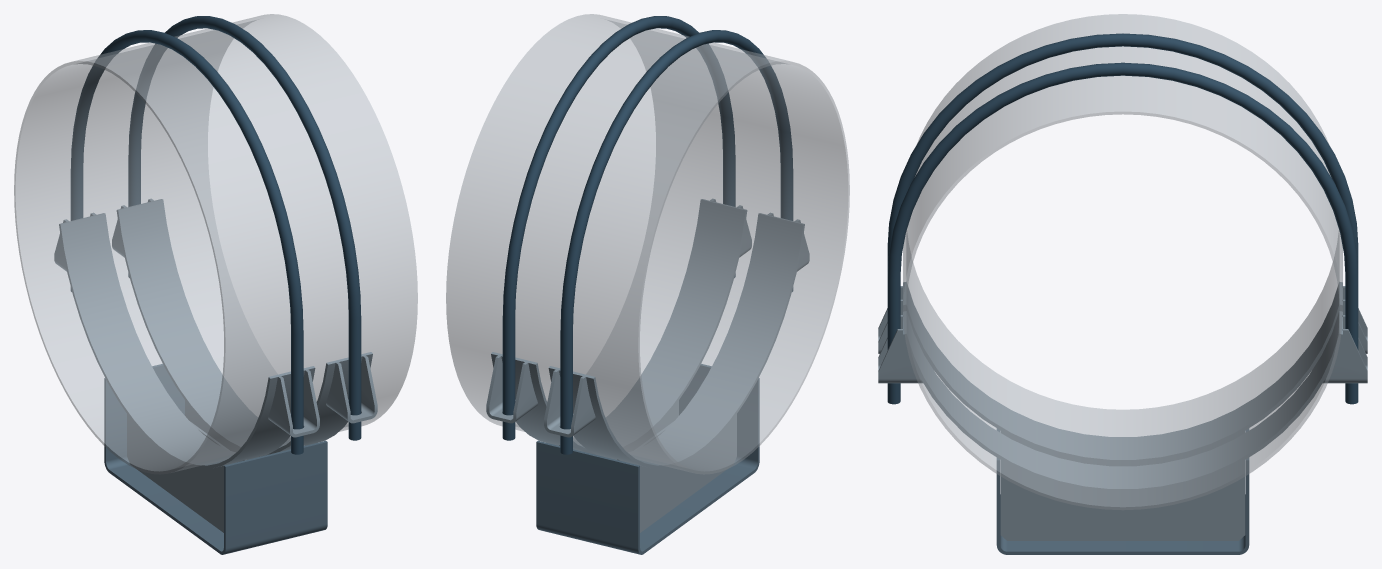
Rendered from TS-626.00.000-077-opora-dn1220-H200-L340.glb.
3 views of the same model, side by side, from view 1: azimuth 30°, elevation 25°; view 2: azimuth 150°, elevation 25°; view 3: azimuth 270°, elevation 25° (orthographic). The views are drawn at different scales.
Visible parts, largest first — view 1: truba, podushka_4, skoba_0, podushka_5, homut_0, homut_1, rebro4_1, ushko_7, ushko_9; view 2: truba, podushka_4, skoba_0, podushka_5, homut_0, homut_1, rebro4_1, ushko_6, ushko_8; view 3: truba, rebro4_2, podushka_5, podushka_4, homut_1, homut_0, skoba_0, ushko_8, ushko_9, rebro4_1.
Part boxes in pixels (<box>): truba: <box>14,14,417,474</box>; podushka_4: <box>59,213,315,468</box>; skoba_0: <box>104,364,327,554</box>; podushka_5: <box>116,199,372,454</box>; homut_0: <box>70,30,303,454</box>; homut_1: <box>128,16,361,440</box>; rebro4_1: <box>127,414,246,532</box>; ushko_7: <box>268,369,319,437</box>; ushko_9: <box>326,355,377,423</box>; truba: <box>446,14,849,474</box>; podushka_4: <box>548,213,804,468</box>; skoba_0: <box>536,364,759,554</box>; podushka_5: <box>491,199,747,454</box>; homut_0: <box>560,30,793,454</box>; homut_1: <box>502,16,735,440</box>; rebro4_1: <box>617,414,736,532</box>; ushko_6: <box>544,369,595,437</box>; ushko_8: <box>486,355,537,423</box>; truba: <box>903,14,1342,510</box>; rebro4_2: <box>1000,460,1245,540</box>; podushka_5: <box>903,311,1342,492</box>; podushka_4: <box>903,282,1342,463</box>; homut_1: <box>887,62,1358,404</box>; homut_0: <box>887,33,1358,271</box>; skoba_0: <box>996,428,1249,554</box>; ushko_8: <box>1323,315,1367,383</box>; ushko_9: <box>878,315,922,383</box>; rebro4_1: <box>1000,431,1245,466</box>.
Size of the model in its own units: 640 by 1470 by 1358.
